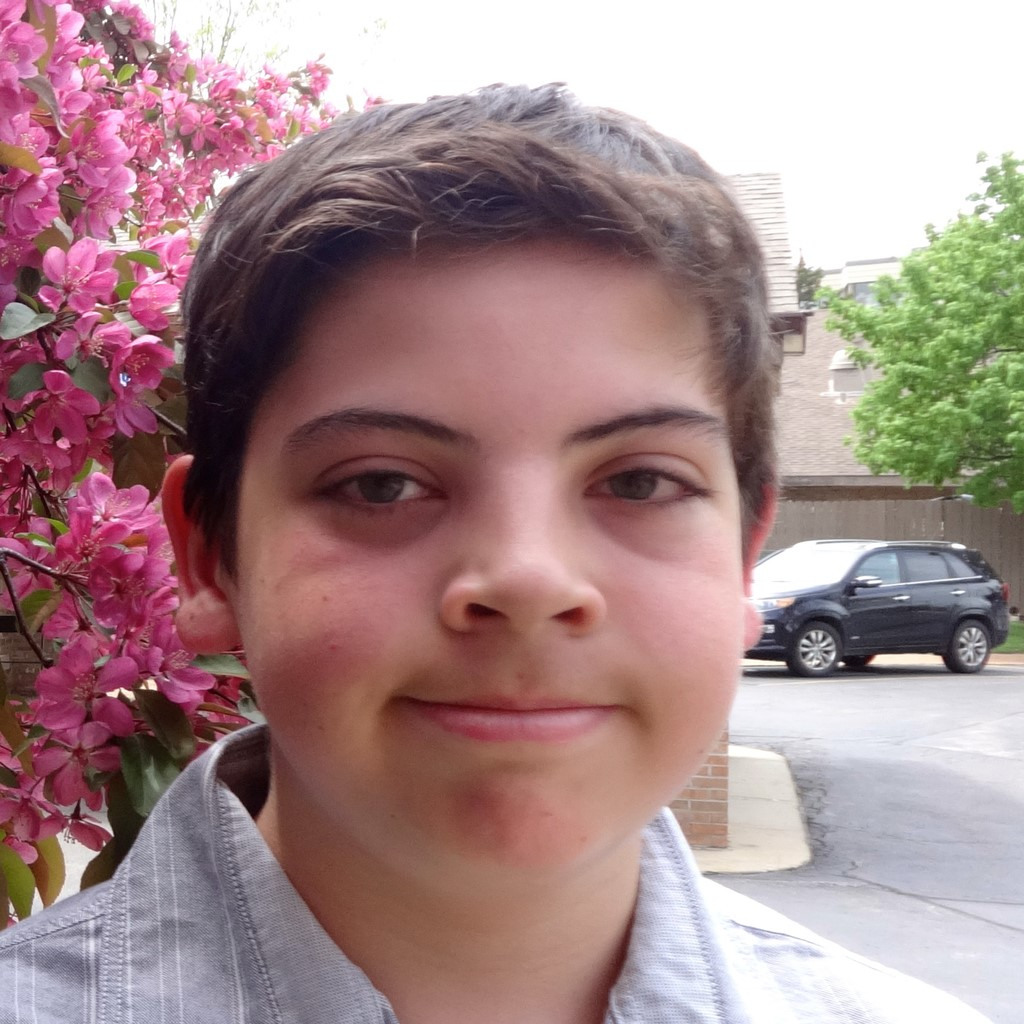sin_mascara: (248, 210, 753, 898)
